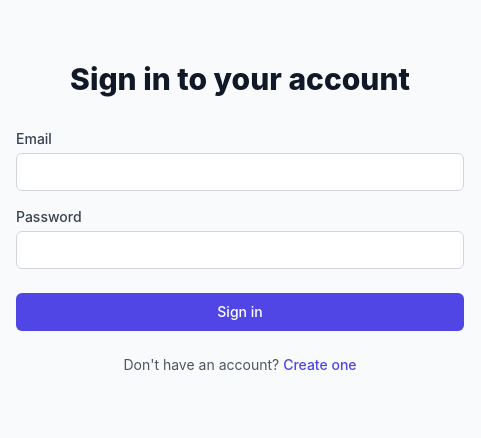
Test: LoginPage › surfaces semicolon-delimited 400 validation errors as separate list items
The width and height of the screenshot is (481, 438).
Click the button "Sign in" at (240, 312), box [16,293,464,331]
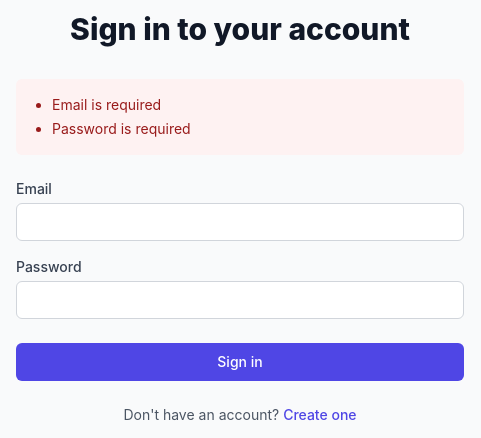
Check: the message shows "Email is required", box [52,96,161,113]
Check: the message shows "Password is required", box [52,120,191,137]
